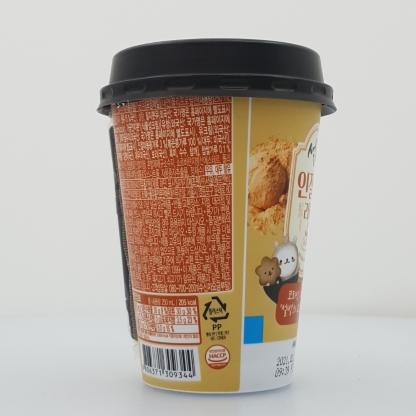--------------250ML: (96, 38, 337, 394)
